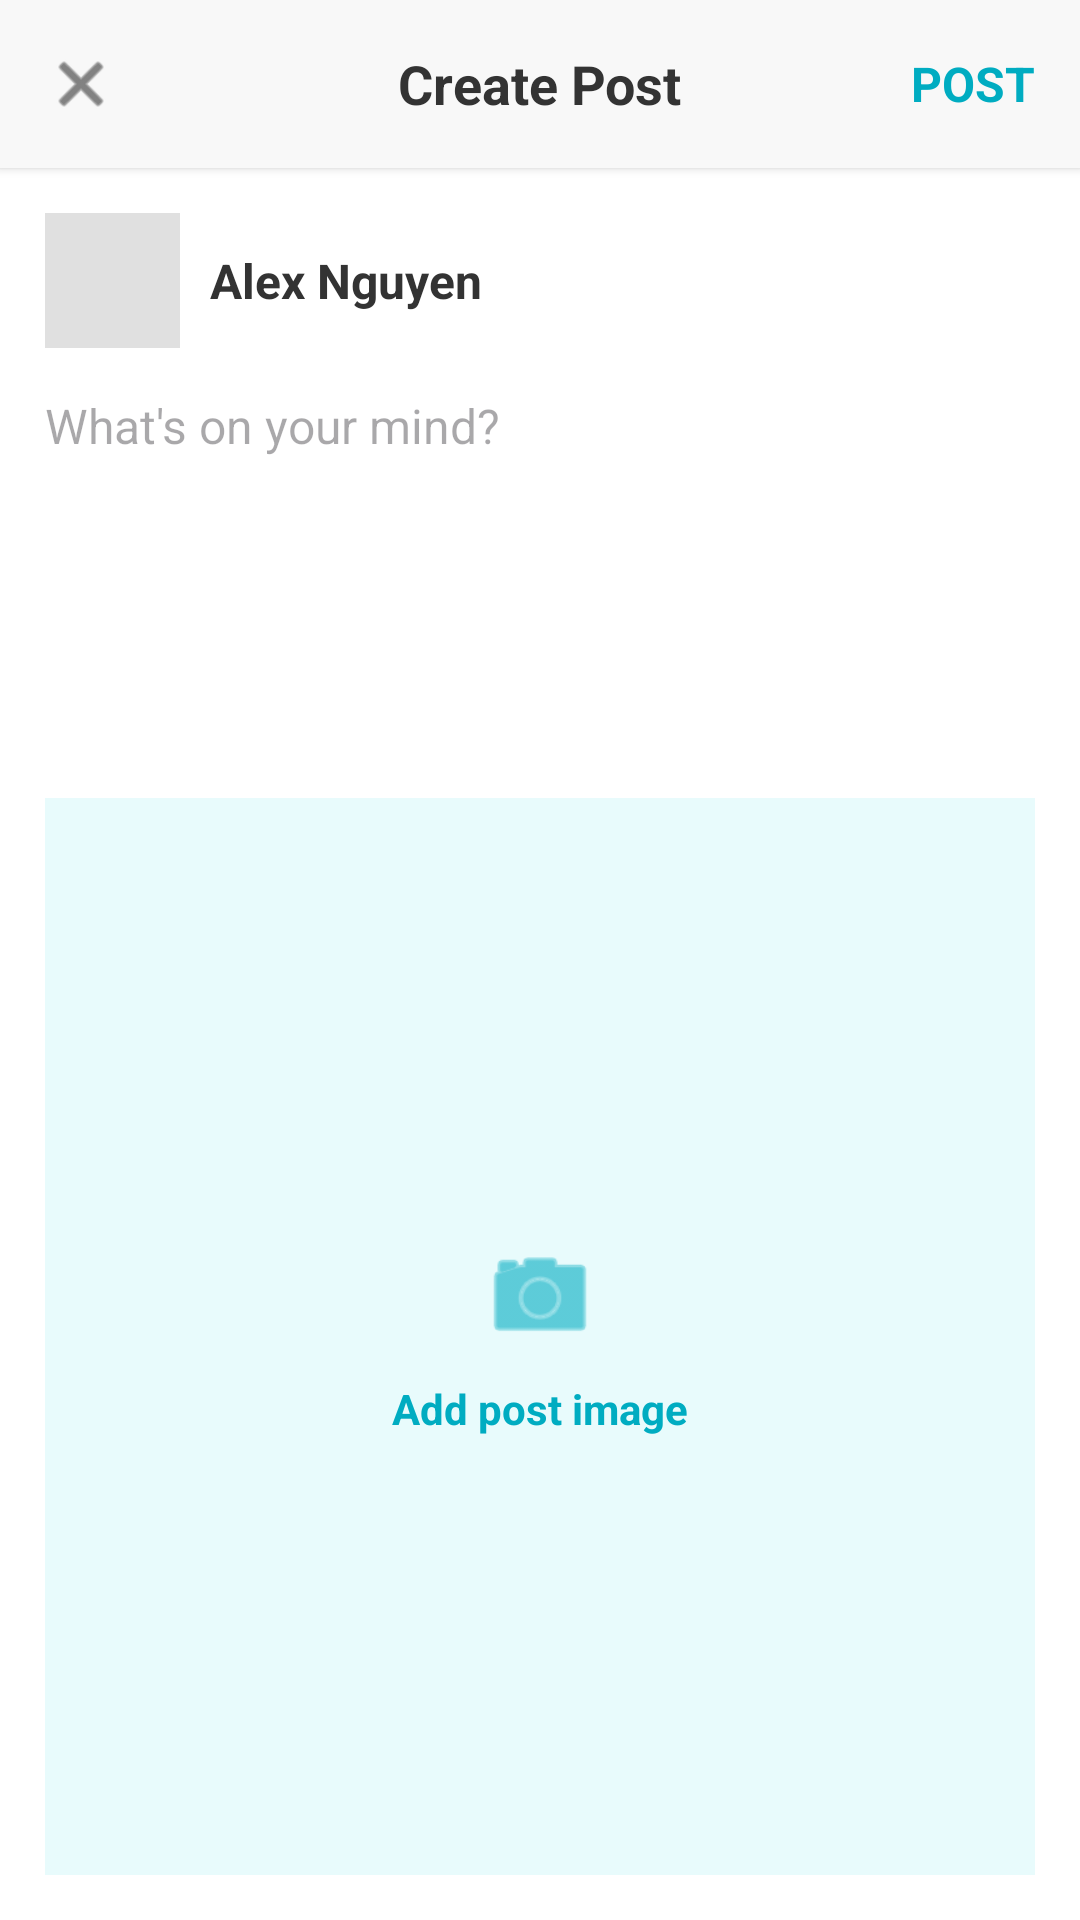

Icons on this 1080×1920 Android screen, each with its box as Rect(x1, y1, x2, y2):
camera: Rect(494, 1257, 586, 1331)
close clear cancel: Rect(59, 62, 103, 106)
